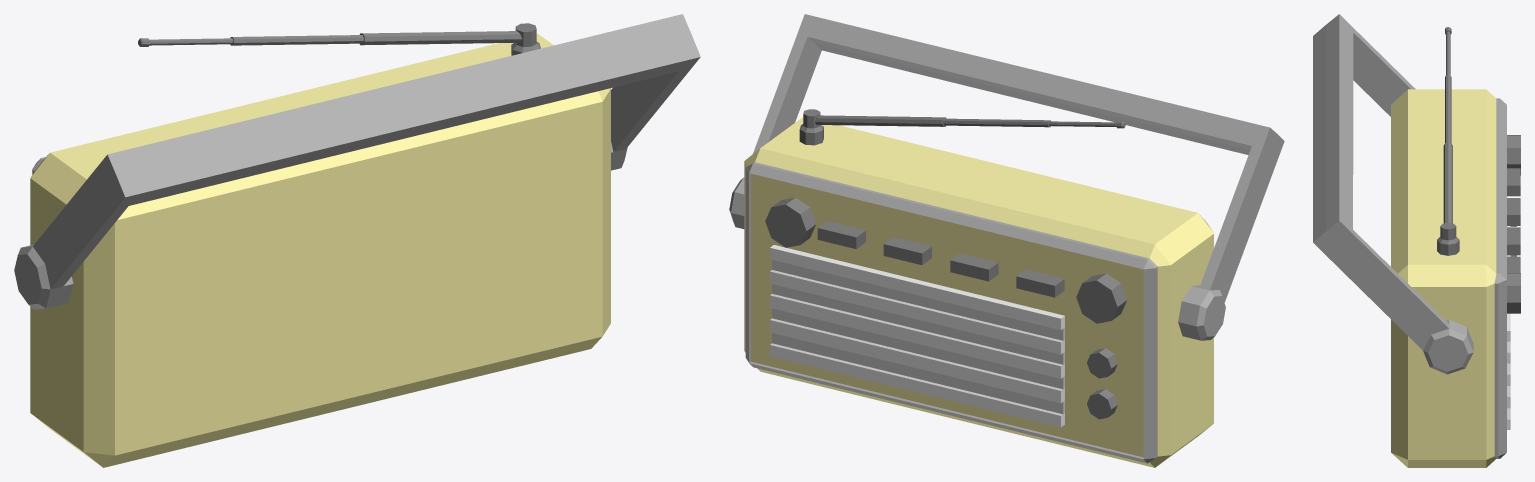
File: Radio.fbx
The picture shows the model from 3 angles, left to right: view 1: azimuth 30°, elevation 25°; view 2: azimuth 150°, elevation 25°; view 3: azimuth 270°, elevation 25°; orthographic projection. The views are drawn at different scales.
Visible parts, largest first — view 1: pCube7; view 2: pCube7; view 3: pCube7.
Boxes of the visible parts, bbox=[...] form: pCube7: bbox=[14, 14, 700, 467]; pCube7: bbox=[729, 14, 1284, 467]; pCube7: bbox=[1313, 14, 1520, 467].
Bounding box in the file's own units: 1.55 × 0.9925 × 0.646.
Materials: 1 (1 with a texture image).
